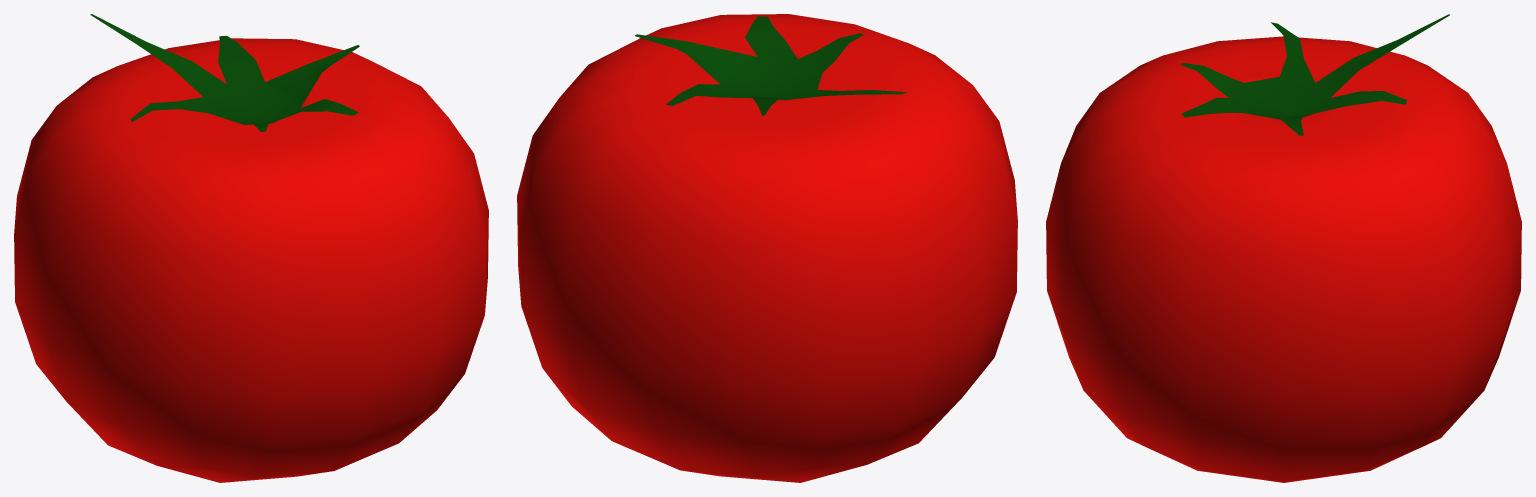
Rendered from Tomato.fbx.
The picture shows the model from 3 angles, left to right: view 1: azimuth 30°, elevation 25°; view 2: azimuth 150°, elevation 25°; view 3: azimuth 270°, elevation 25°; orthographic projection. The views are drawn at different scales.
Parts seen in each view (by area): view 1: Tomato; view 2: Tomato; view 3: Tomato.
Part boxes in pixels (x1,y1,x2,y2): Tomato: (14, 14, 488, 482); Tomato: (517, 14, 1017, 482); Tomato: (1046, 14, 1521, 482).
Size of the model in its own units: 35.35 by 32.99 by 35.35.
